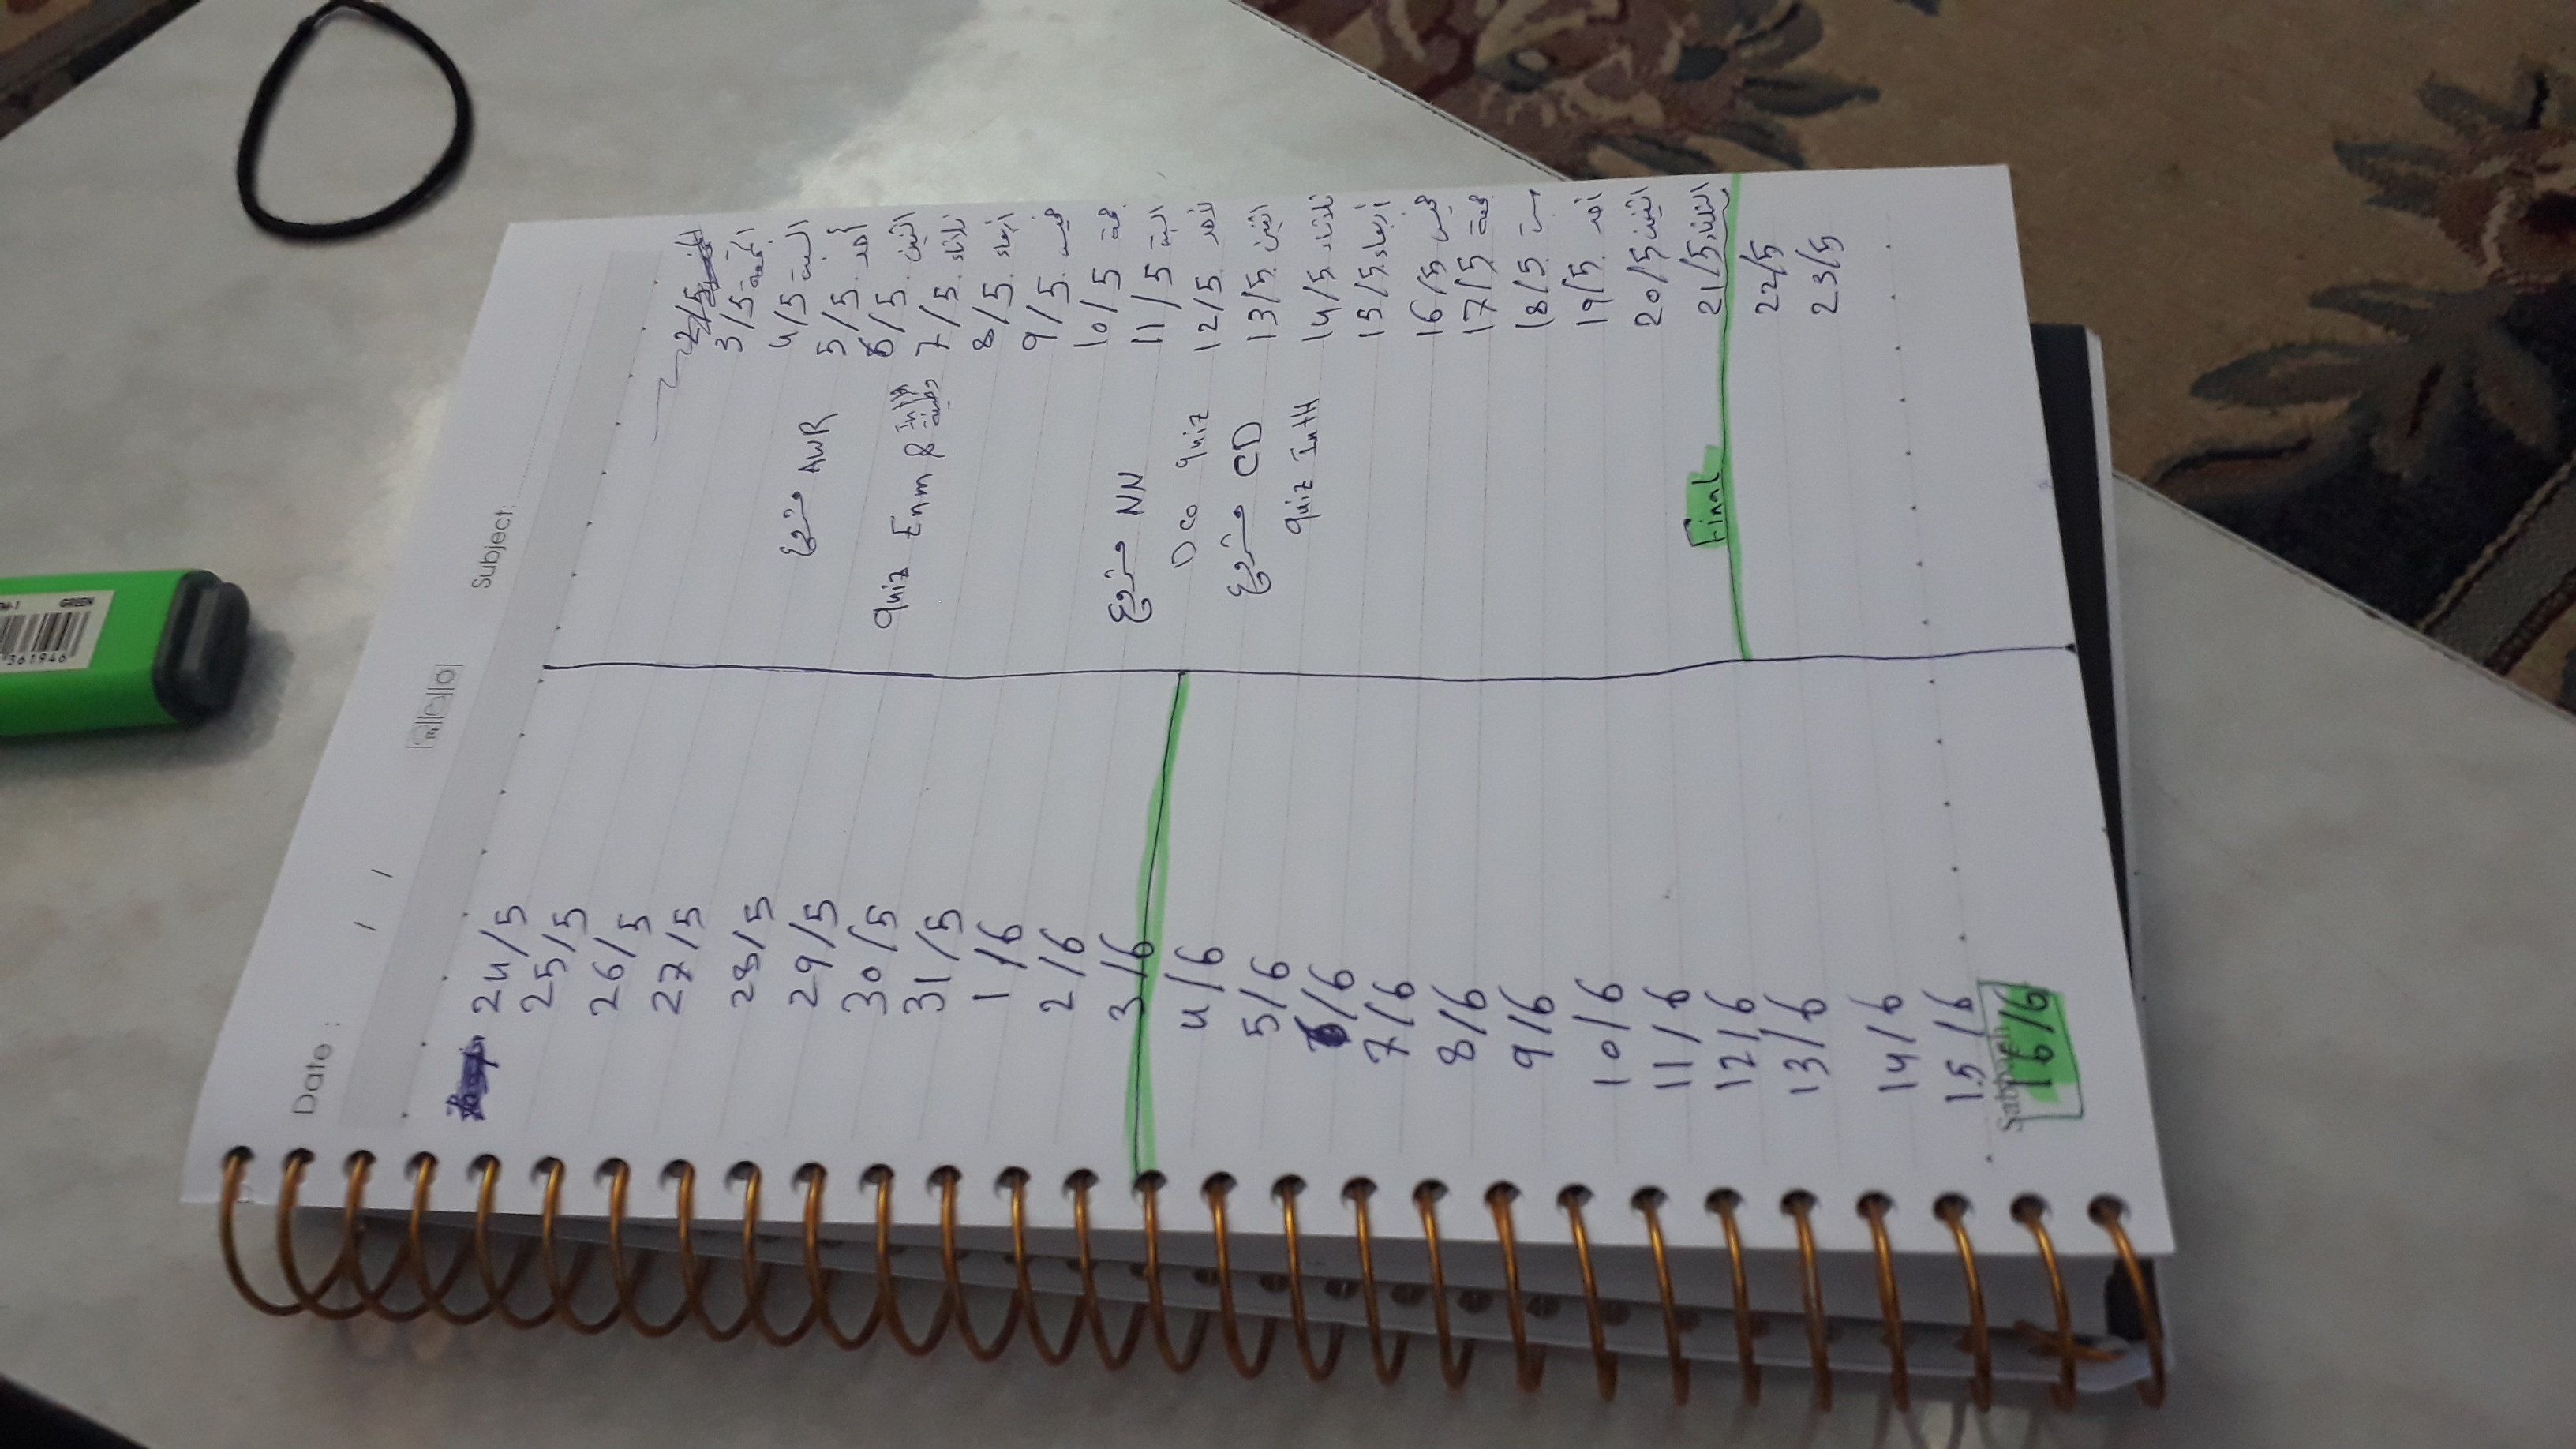dftar: (159, 163, 2224, 1401)
